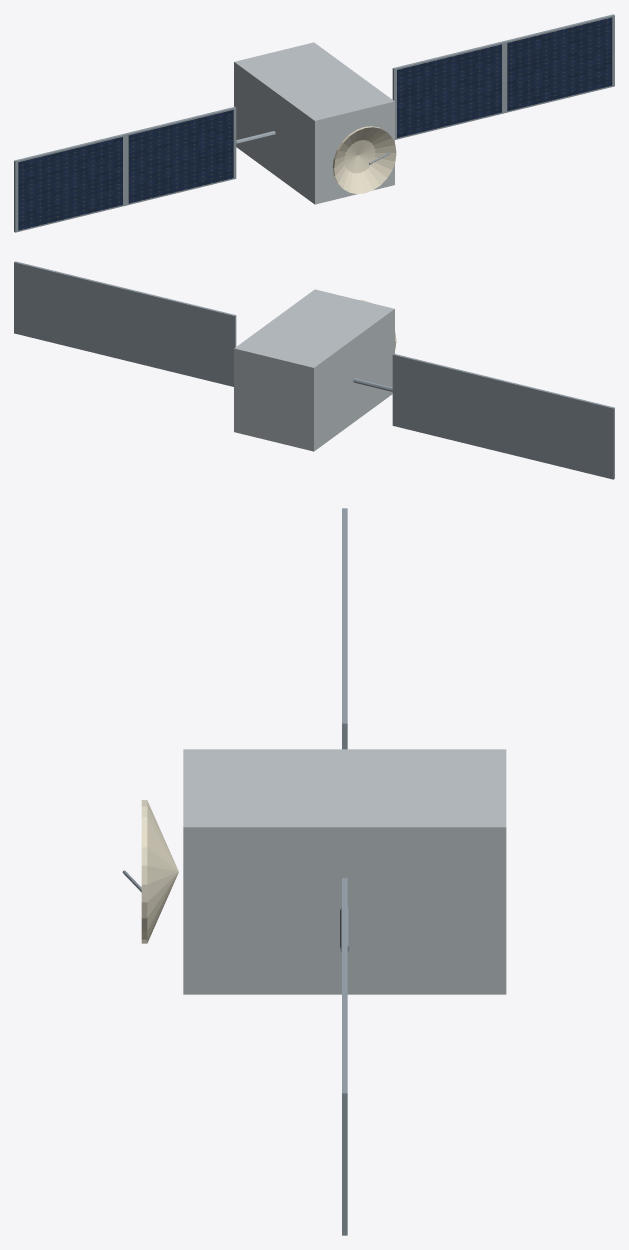
File: ref-tjs11-59020.glb
3 renders of one model, top to bottom at view 1: azimuth 30°, elevation 25°; view 2: azimuth 150°, elevation 25°; view 3: azimuth 270°, elevation 25°, orthographic. The views are drawn at different scales.
Parts seen in each view (by area): view 1: Photovoltaic laminates (×4), Spacecraft body, Array frame (×4), Reflector dish; view 2: Array frame (×4), Spacecraft body; view 3: Spacecraft body, Reflector dish, Array frame.
Boxes of the visible parts, x1,y1,x2,y2 form: Photovoltaic laminates (×4): (18, 17, 612, 230); Spacecraft body: (234, 42, 394, 204); Array frame (×4): (14, 14, 614, 232); Reflector dish: (332, 126, 396, 193); Array frame (×4): (14, 261, 614, 479); Spacecraft body: (234, 289, 394, 451); Spacecraft body: (183, 749, 506, 994); Reflector dish: (141, 800, 178, 943); Array frame: (342, 985, 347, 1235).
Size of the model in its own units: 30 by 4 by 8.31.
Materials: 4 (1 with a texture image).
